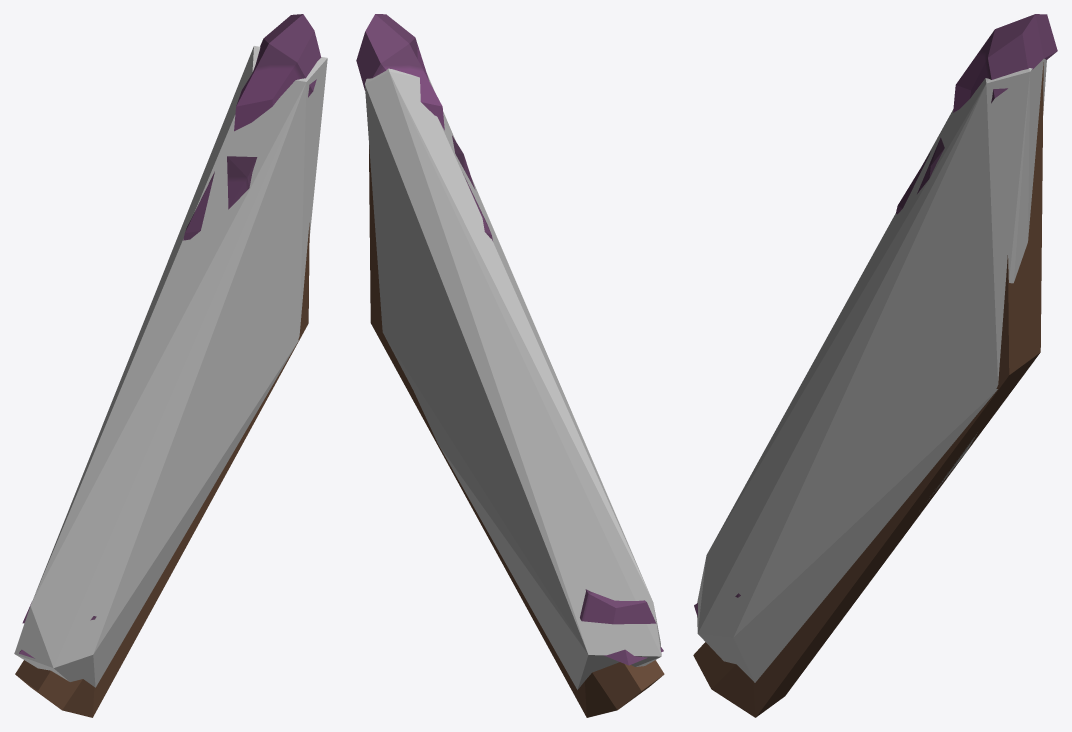
Rendered from SM_Bld_Roof_End_Straight_Small_Peak_01.fbx.
3 views of the same model, side by side, from view 1: azimuth 30°, elevation 25°; view 2: azimuth 150°, elevation 25°; view 3: azimuth 330°, elevation 25° (orthographic). The views are drawn at different scales.
Visible parts, largest first — view 1: SM_Bld_Roof_End_Straight_Small_Peak_01_ConvexHulls, SM_Bld_Roof_End_Straight_Small_Peak_01; view 2: SM_Bld_Roof_End_Straight_Small_Peak_01_ConvexHulls, SM_Bld_Roof_End_Straight_Small_Peak_01; view 3: SM_Bld_Roof_End_Straight_Small_Peak_01_ConvexHulls, SM_Bld_Roof_End_Straight_Small_Peak_01.
Boxes of the visible parts, x1,y1,x2,y2 form: SM_Bld_Roof_End_Straight_Small_Peak_01_ConvexHulls: (14,46,327,687); SM_Bld_Roof_End_Straight_Small_Peak_01: (15,14,321,717); SM_Bld_Roof_End_Straight_Small_Peak_01_ConvexHulls: (364,68,661,689); SM_Bld_Roof_End_Straight_Small_Peak_01: (356,14,664,717); SM_Bld_Roof_End_Straight_Small_Peak_01_ConvexHulls: (697,58,1046,682); SM_Bld_Roof_End_Straight_Small_Peak_01: (693,14,1057,717).
Bounding box in the file's own units: 155 × 41.45 × 318.
Materials: 2 (1 with a texture image).
